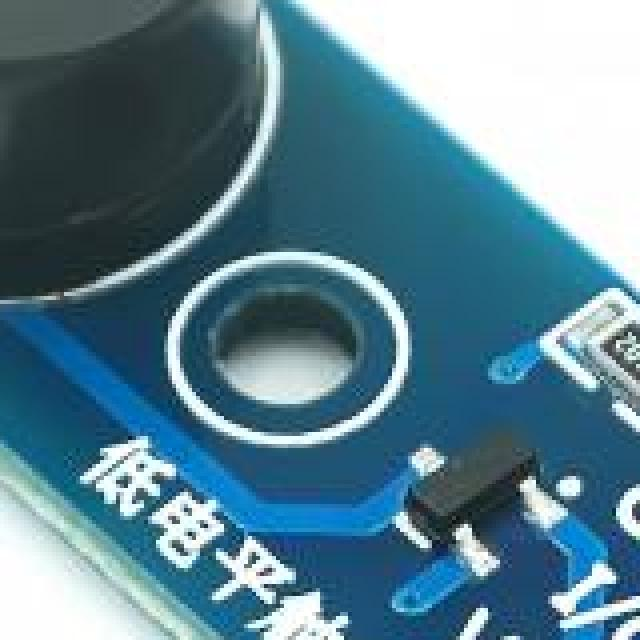buzzer: (0, 0, 304, 304)
connector: (536, 540, 640, 640)
resistor: (580, 304, 640, 436)
transistor: (392, 420, 558, 568)
